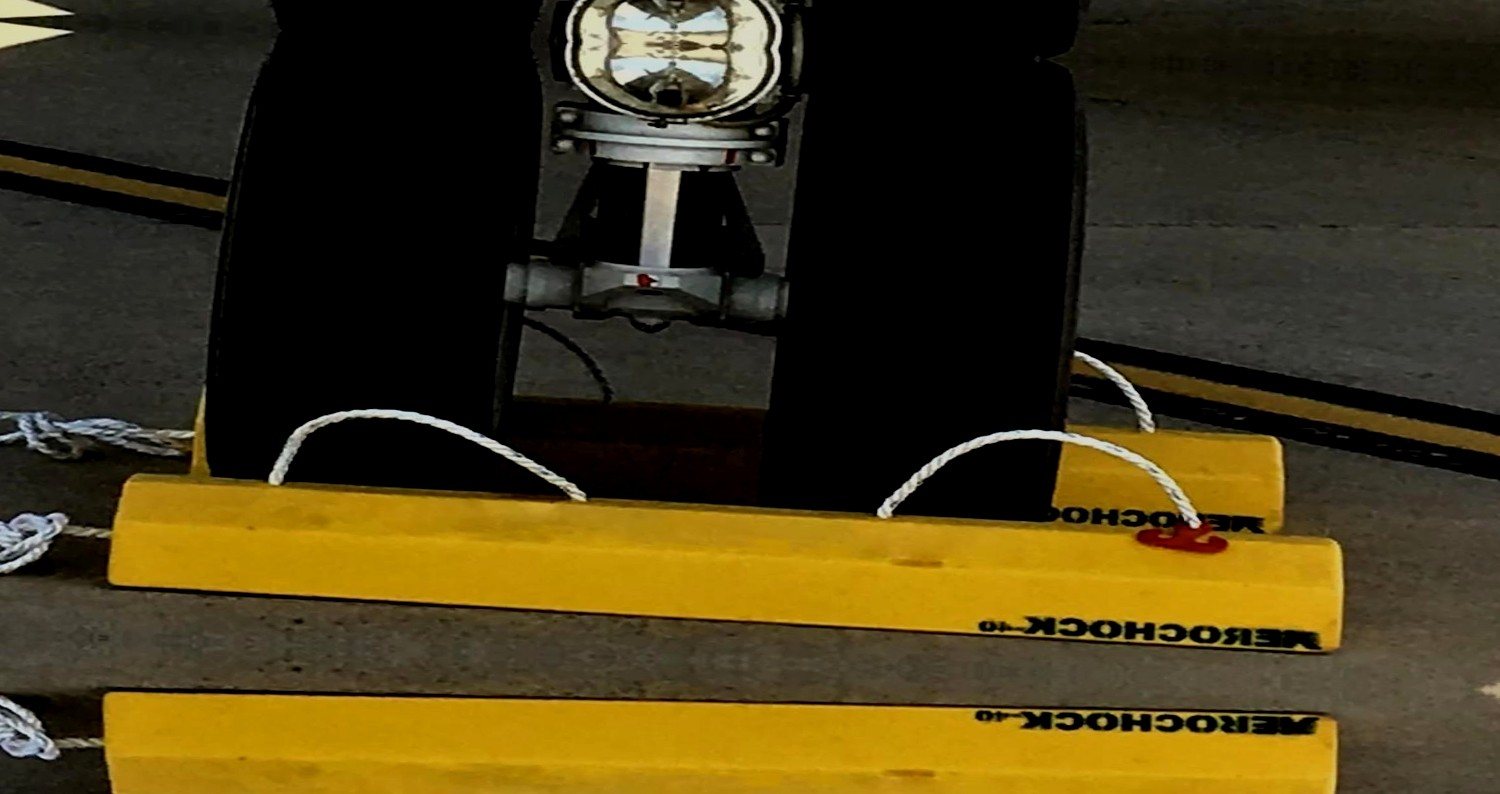chock: (96, 468, 1360, 657), (164, 378, 1296, 535), (89, 666, 1353, 794)
wheel: (207, 28, 548, 493), (776, 53, 1096, 526)
